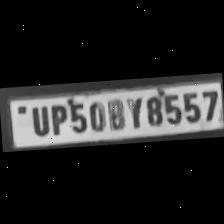0: (84, 98, 106, 132)
1: (123, 94, 143, 129)
5: (65, 100, 87, 134), (179, 88, 200, 123), (161, 90, 181, 126)
7: (198, 87, 220, 121)
8: (142, 93, 162, 127)
B: (104, 96, 125, 130)
P: (47, 102, 68, 136)
U: (27, 103, 50, 137)
